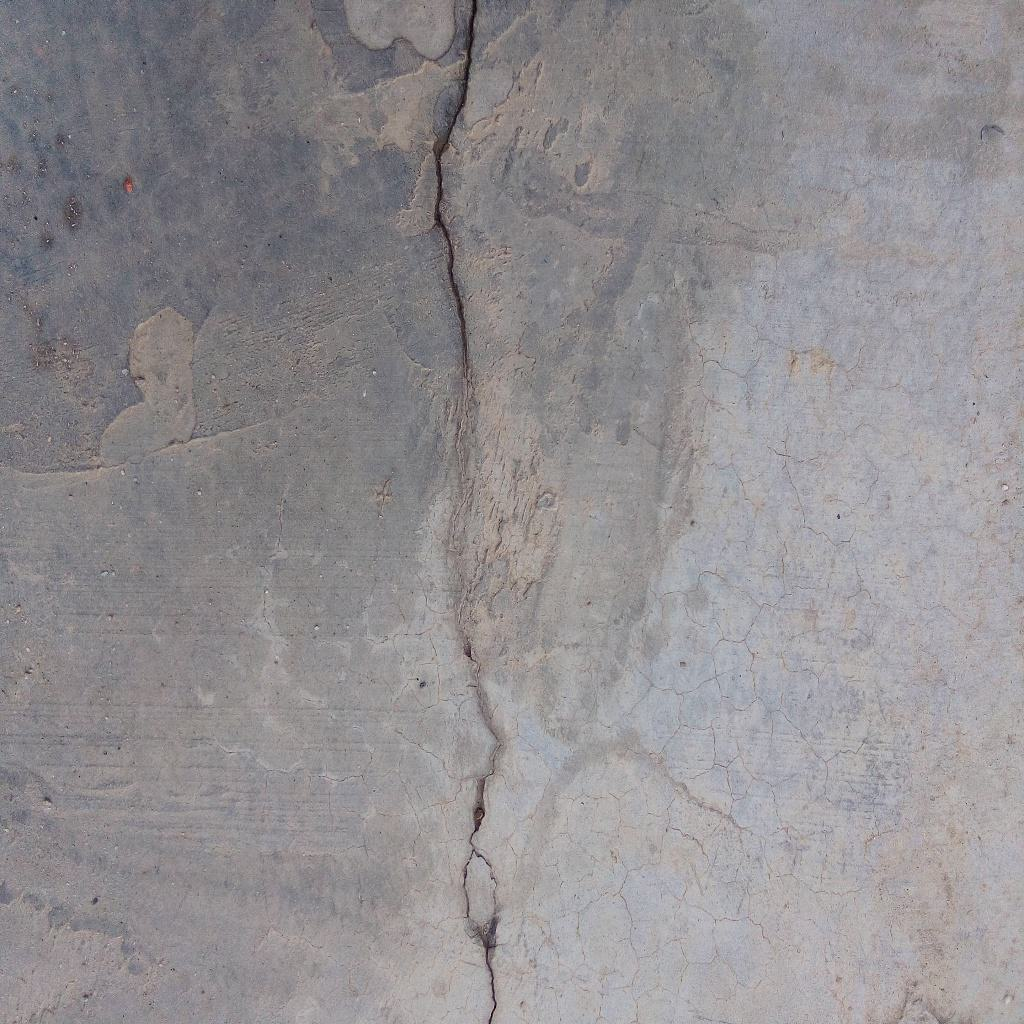Crack: (433, 1, 501, 1024)
